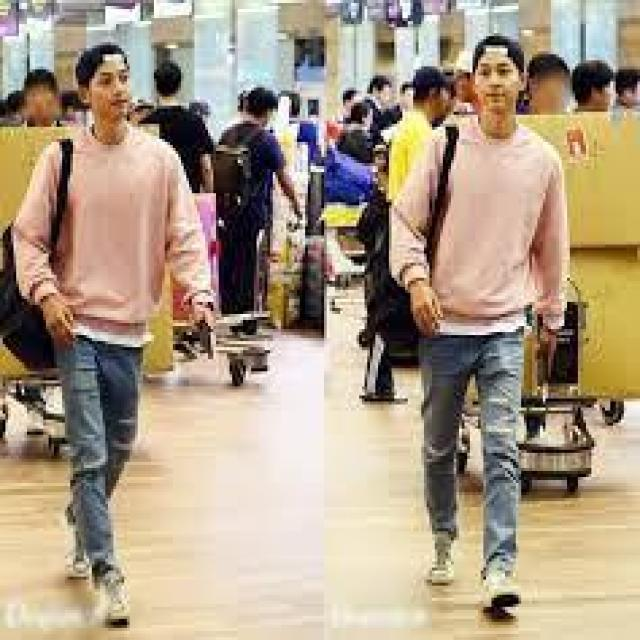pants: (417, 322, 528, 566), (56, 325, 148, 575)
sweater: (0, 125, 219, 364), (370, 107, 586, 340)
